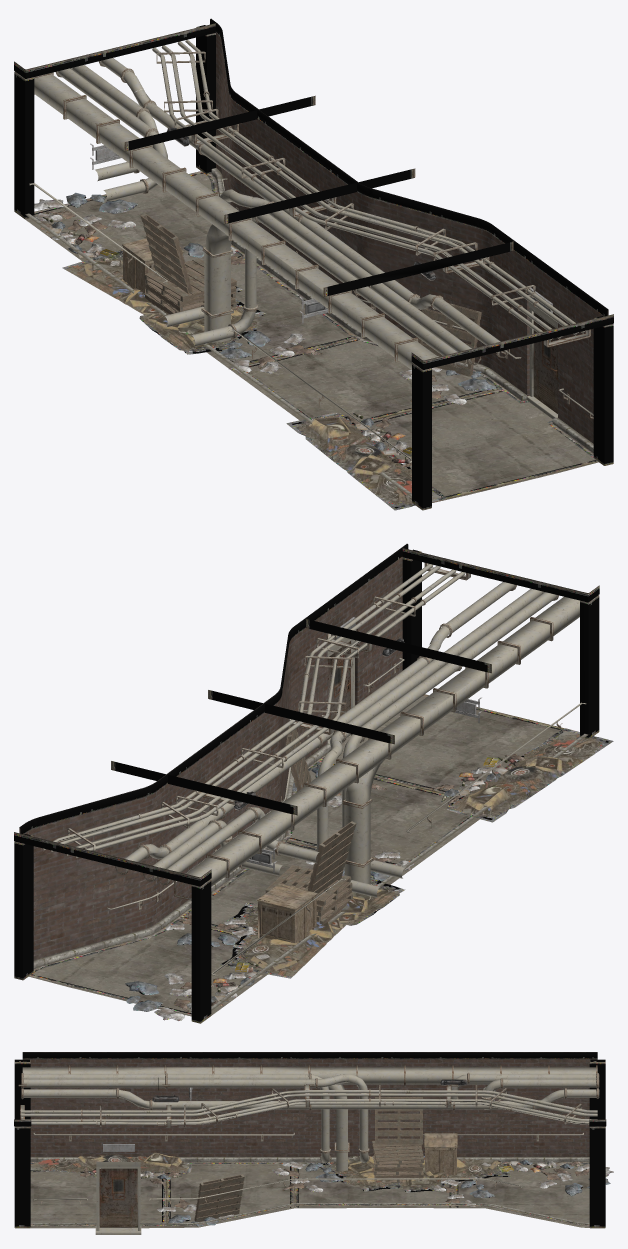
The model's file is link-straight-a-18m.glb.
The picture shows the model from 3 angles, top to bottom: view 1: azimuth 30°, elevation 25°; view 2: azimuth 150°, elevation 25°; view 3: azimuth 270°, elevation 25°; orthographic projection. The views are drawn at different scales.
Visible parts, largest first — view 1: corridor_straight_a_18m_LOD0, junk_pile_straight_a, pallet_stacks_b_LOD0, junk_pile_Lshape_c, junk_pile_Lshape_a, pallet_stacks_c, ground_cloth_a, industrial_doors_a_d_static, ground_cloth_a (2), pallet_stacks_c (1), wooden_crate_a, ground_junk_straight_a (1) (+2 smaller); view 2: corridor_straight_a_18m_LOD0, junk_pile_straight_a, junk_pile_Lshape_c, wooden_crate_a, pallet_stacks_b_LOD0, pallet_stacks_c, ground_cloth_a, junk_pile_Lshape_a, ground_junk_straight_a (1), industrial_doors_a_d_static, ground_cloth_a (1), ground_junk_straight_a (+1 smaller); view 3: corridor_straight_a_18m_LOD0, industrial_doors_a_d_static, junk_pile_straight_a, pallet_stacks_b_LOD0, pallet_stacks_c (1), junk_pile_Lshape_c, pallet_stacks_c, wooden_crate_a, junk_pile_Lshape_a, ground_cloth_a (2), ground_cloth_a, ground_junk_straight_a (+3 smaller).
Part boxes in pixels (box(x1,y1,x2,y2)): corridor_straight_a_18m_LOD0: box(14, 18, 613, 510); junk_pile_straight_a: box(286, 413, 445, 510); pallet_stacks_b_LOD0: box(144, 258, 236, 314); junk_pile_Lshape_c: box(62, 249, 242, 314); junk_pile_Lshape_a: box(139, 298, 265, 354); pallet_stacks_c: box(140, 213, 192, 293); ground_cloth_a: box(34, 192, 137, 237); industrial_doors_a_d_static: box(533, 312, 557, 413); ground_cloth_a (2): box(220, 330, 322, 373); pallet_stacks_c (1): box(418, 303, 481, 376); wooden_crate_a: box(122, 238, 184, 293); ground_junk_straight_a (1): box(346, 413, 411, 467); corridor_straight_a_18m_LOD0: box(14, 543, 599, 1023); junk_pile_straight_a: box(447, 728, 613, 822); junk_pile_Lshape_c: box(219, 903, 345, 978); wooden_crate_a: box(257, 883, 317, 943); pallet_stacks_b_LOD0: box(265, 865, 352, 924); pallet_stacks_c: box(308, 821, 356, 893); ground_cloth_a: box(125, 972, 217, 1020); junk_pile_Lshape_a: box(337, 875, 405, 925); ground_junk_straight_a (1): box(431, 754, 525, 804); industrial_doors_a_d_static: box(327, 641, 350, 739); ground_cloth_a (1): box(165, 912, 257, 946); ground_junk_straight_a: box(188, 961, 262, 1006); corridor_straight_a_18m_LOD0: box(14, 1052, 606, 1234); industrial_doors_a_d_static: box(99, 1168, 137, 1227); junk_pile_straight_a: box(30, 1152, 191, 1174); pallet_stacks_b_LOD0: box(372, 1141, 424, 1182); pallet_stacks_c (1): box(194, 1174, 244, 1221); junk_pile_Lshape_c: box(398, 1156, 510, 1192); pallet_stacks_c: box(375, 1097, 422, 1144); wooden_crate_a: box(424, 1133, 457, 1175); junk_pile_Lshape_a: box(318, 1156, 402, 1191); ground_cloth_a (2): box(272, 1161, 343, 1192); ground_cloth_a: box(538, 1163, 613, 1195); ground_junk_straight_a: box(494, 1159, 584, 1173).
Bounding box in the file's own units: 6.07 × 3.81 × 18.78.
14 materials, 14 textured.
